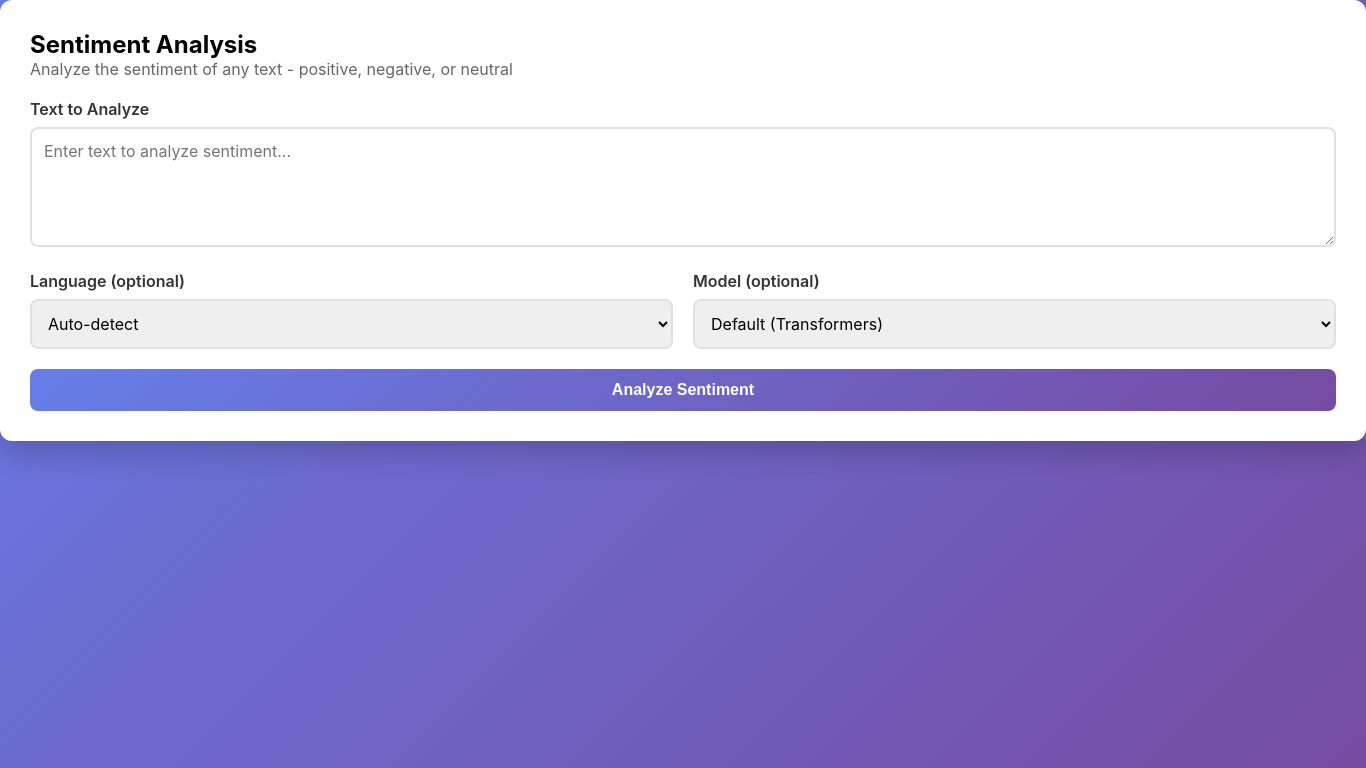
Test: SentimentAnalyzer › displays error on API failure
The width and height of the screenshot is (1366, 768).
Type "Test text" into the text box with placeholder "Enter text to analyze sentiment...". click: (683, 187)
box: [30, 127, 1336, 247]
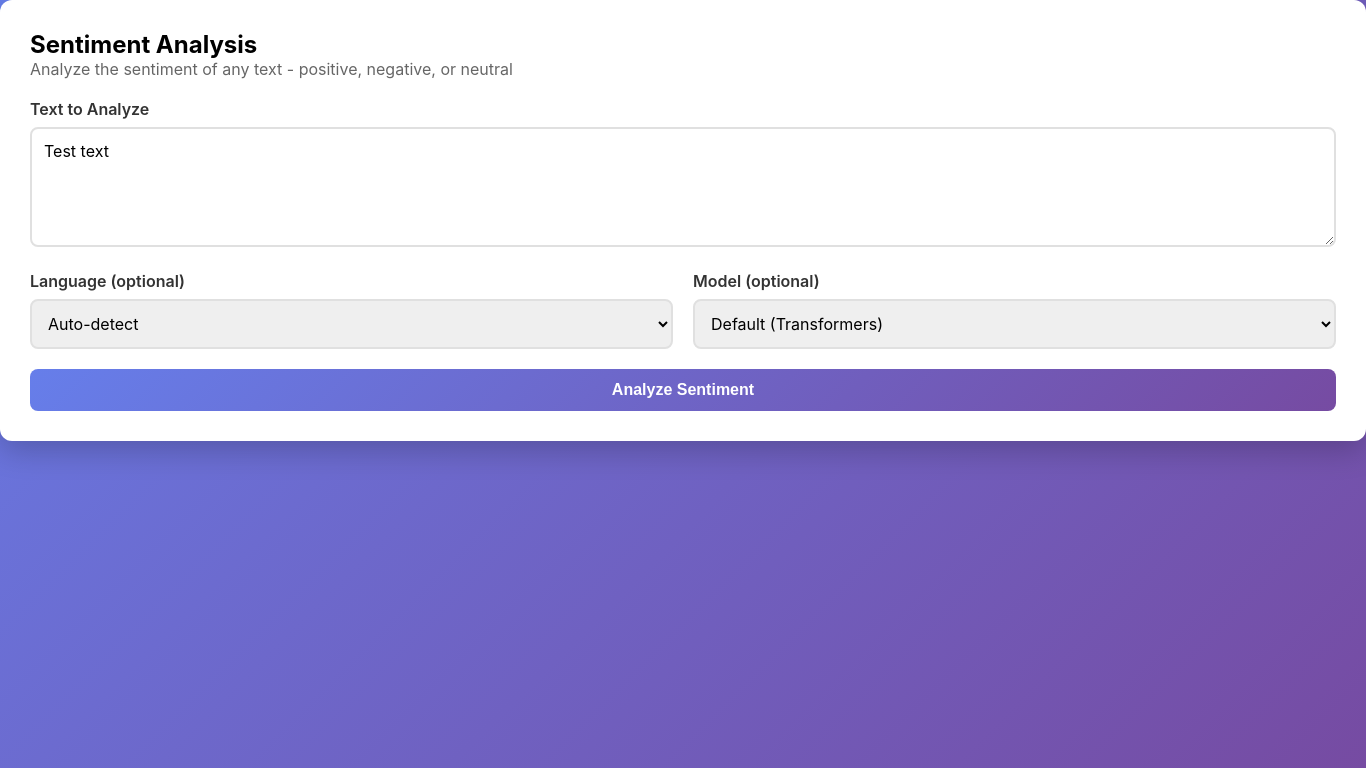
Click the button "Analyze Sentiment". click: (683, 390)
box: [30, 369, 1336, 411]
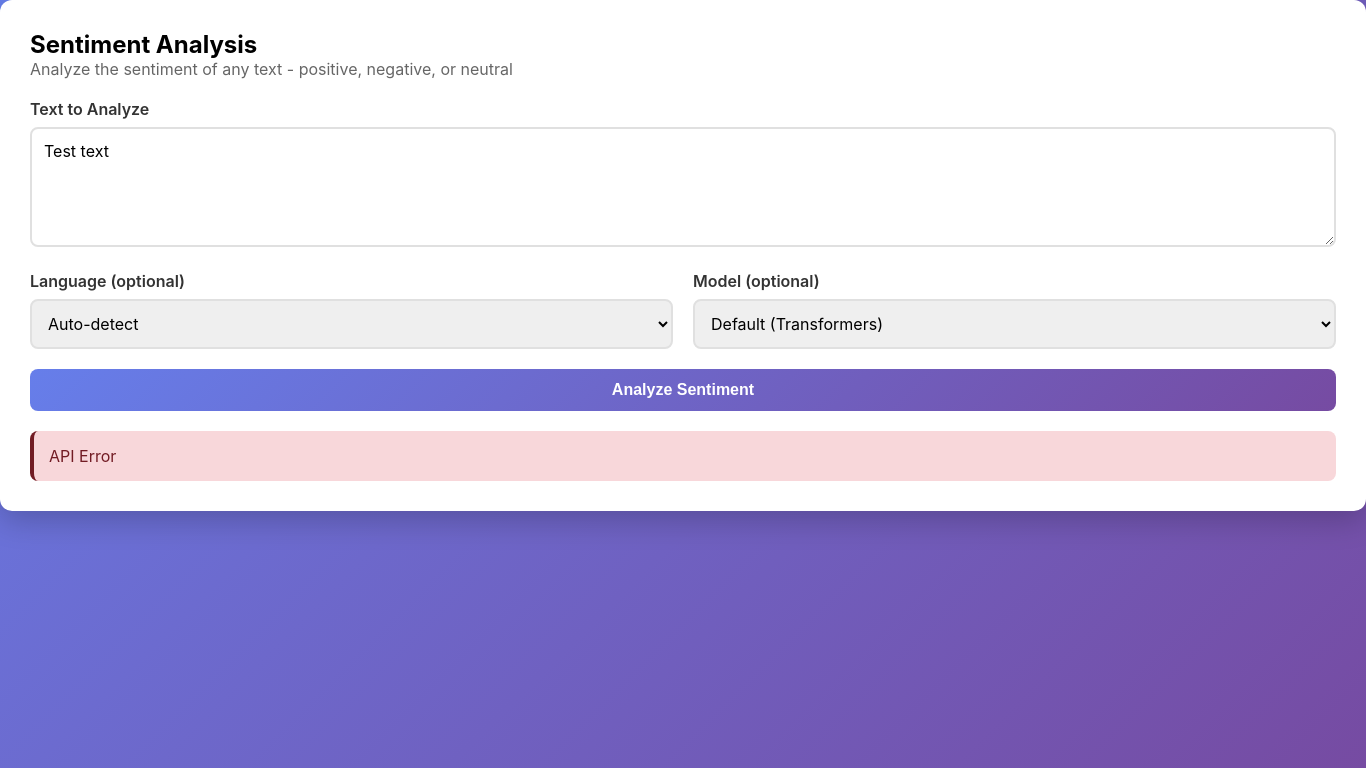
expect the text "API Error" is shown: met, box [30, 431, 1336, 481]
